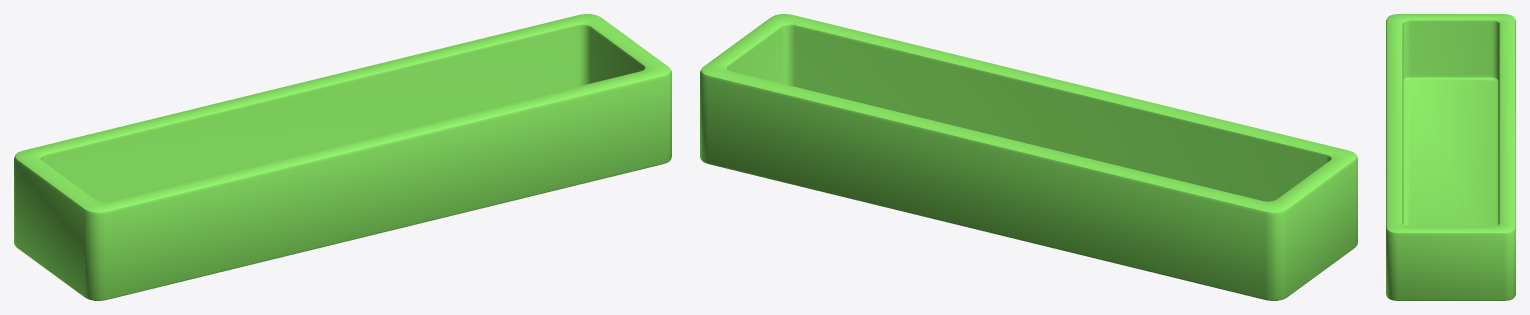
3 views of the same model, side by side, from view 1: azimuth 30°, elevation 25°; view 2: azimuth 150°, elevation 25°; view 3: azimuth 270°, elevation 25° (orthographic). The views are drawn at different scales.
Visible parts, largest first — view 1: Shape_4x1; view 2: Shape_4x1; view 3: Shape_4x1.
Part boxes in pixels (x1,y1,x2,y2): Shape_4x1: (14, 14, 671, 300); Shape_4x1: (700, 14, 1357, 300); Shape_4x1: (1386, 14, 1515, 300).
Size of the model in its own units: 3.4 by 0.5 by 0.85.
